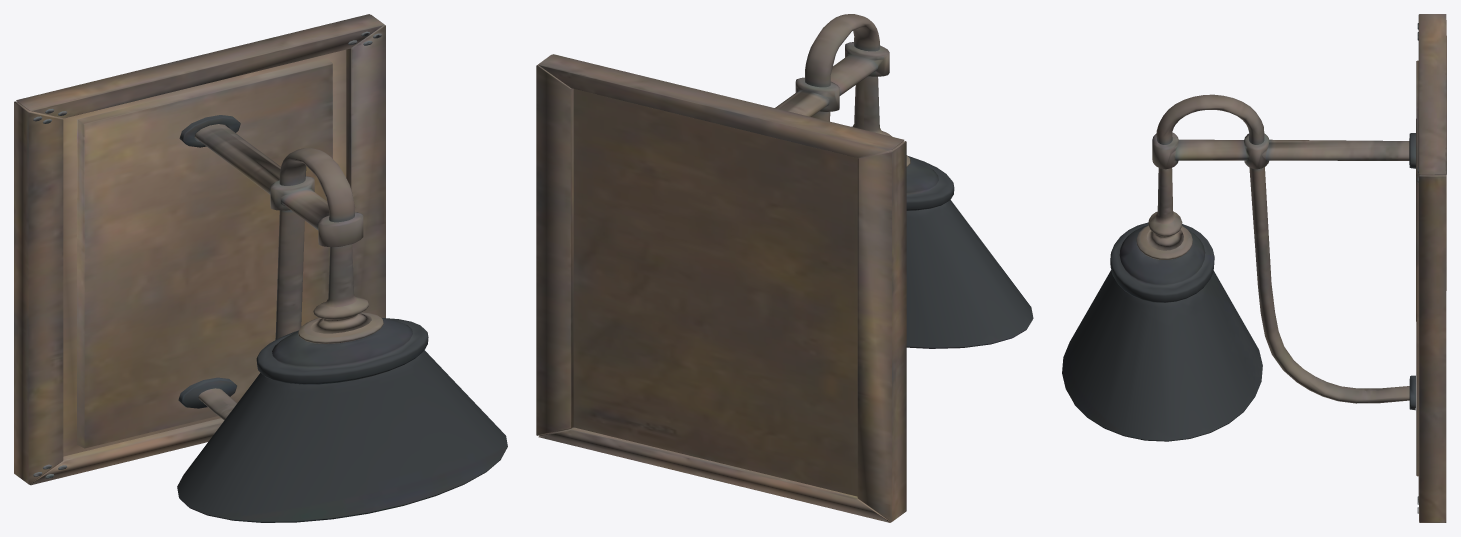
The model's file is ph-industrial-wall-sconce.glb.
The picture shows the model from 3 angles, left to right: view 1: azimuth 30°, elevation 25°; view 2: azimuth 150°, elevation 25°; view 3: azimuth 270°, elevation 25°; orthographic projection. The views are drawn at different scales.
Parts seen in each view (by area): view 1: industrial_wall_sconce; view 2: industrial_wall_sconce; view 3: industrial_wall_sconce.
Part boxes in pixels (box(x1,y1,x2,y2)): industrial_wall_sconce: box(14, 14, 507, 522); industrial_wall_sconce: box(536, 14, 1033, 522); industrial_wall_sconce: box(1062, 14, 1446, 522).
Bounding box in the file's own units: 0.9974 × 0.9987 × 1.
2 materials, 2 textured.
